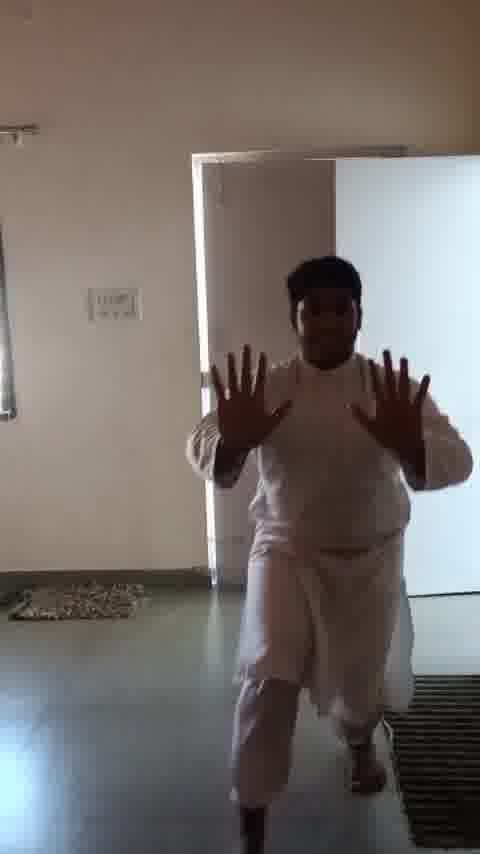duck: (182, 236, 472, 854)
